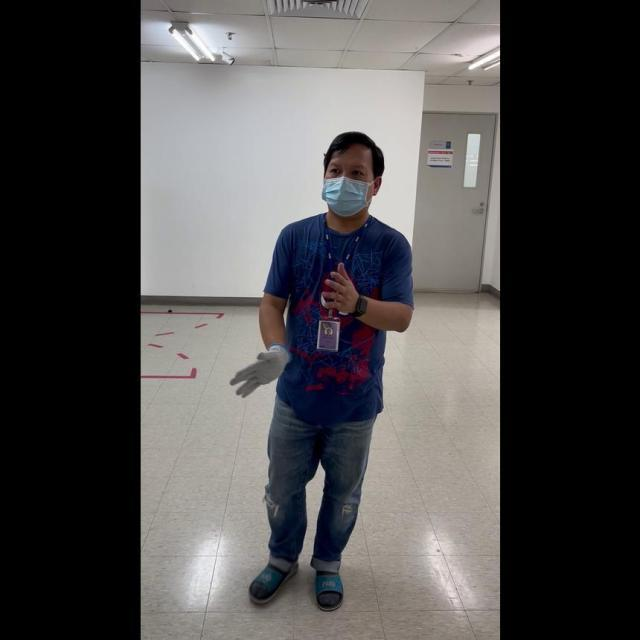bare_hand: (318, 261, 365, 319)
gloved_hand: (230, 338, 292, 400)
